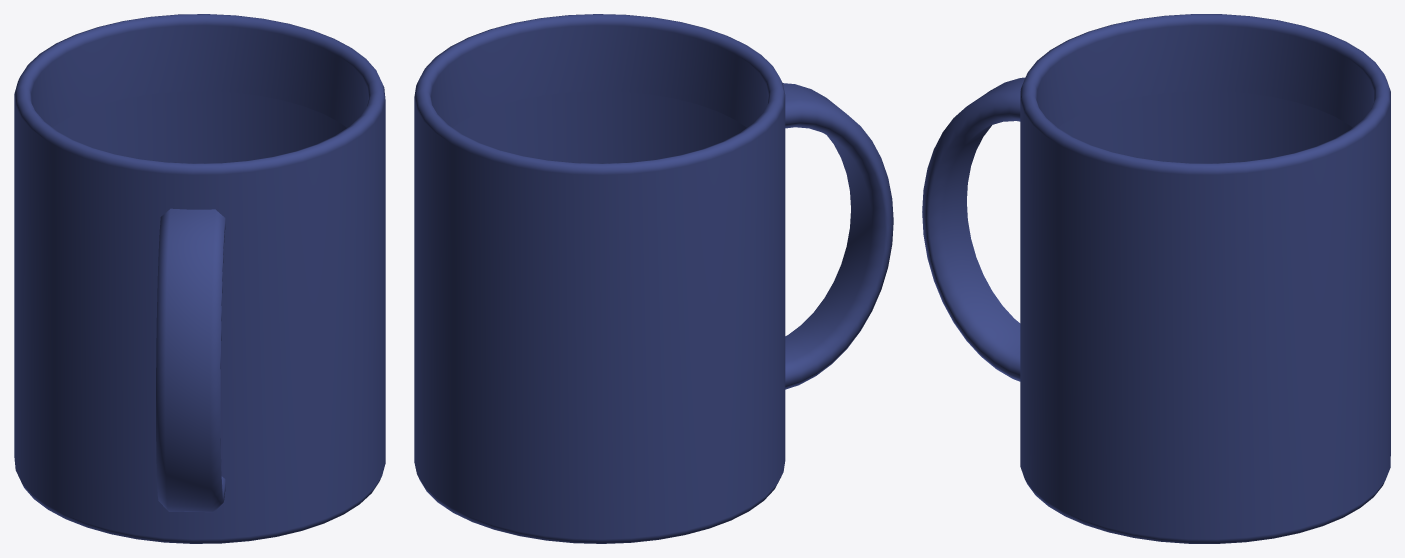
Rendered from Mug.fbx.
3 views of the same model, side by side, from view 1: azimuth 30°, elevation 25°; view 2: azimuth 150°, elevation 25°; view 3: azimuth 270°, elevation 25° (orthographic).
Visible parts, largest first — view 1: Mug1.002; view 2: Mug1.002; view 3: Mug1.002.
Boxes of the visible parts, x1,y1,x2,y2 form: Mug1.002: [14, 14, 385, 543]; Mug1.002: [414, 14, 893, 543]; Mug1.002: [922, 14, 1390, 543].
Size of the model in its own units: 10.07 by 11.17 by 12.48.
